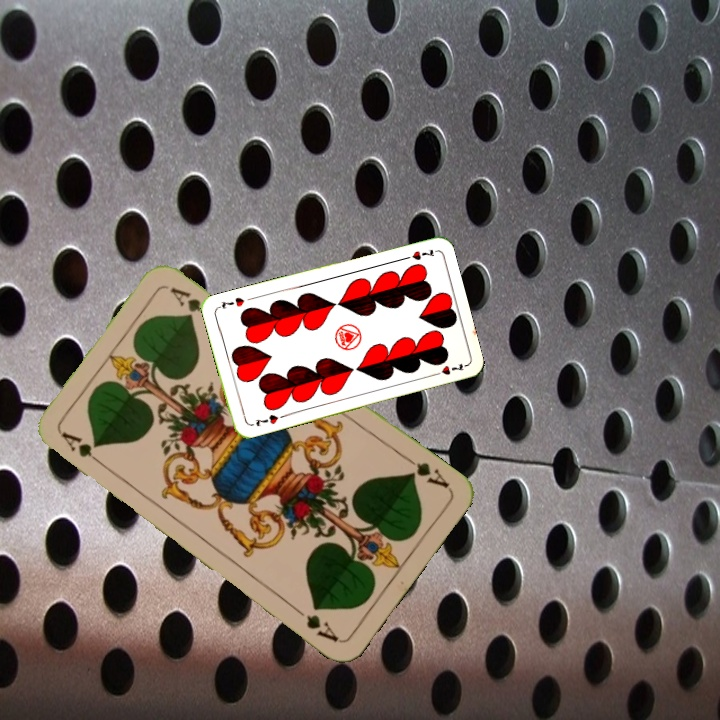GA: (57, 427, 108, 470), (400, 451, 452, 491)
H7: (398, 245, 437, 263), (251, 411, 287, 429)
